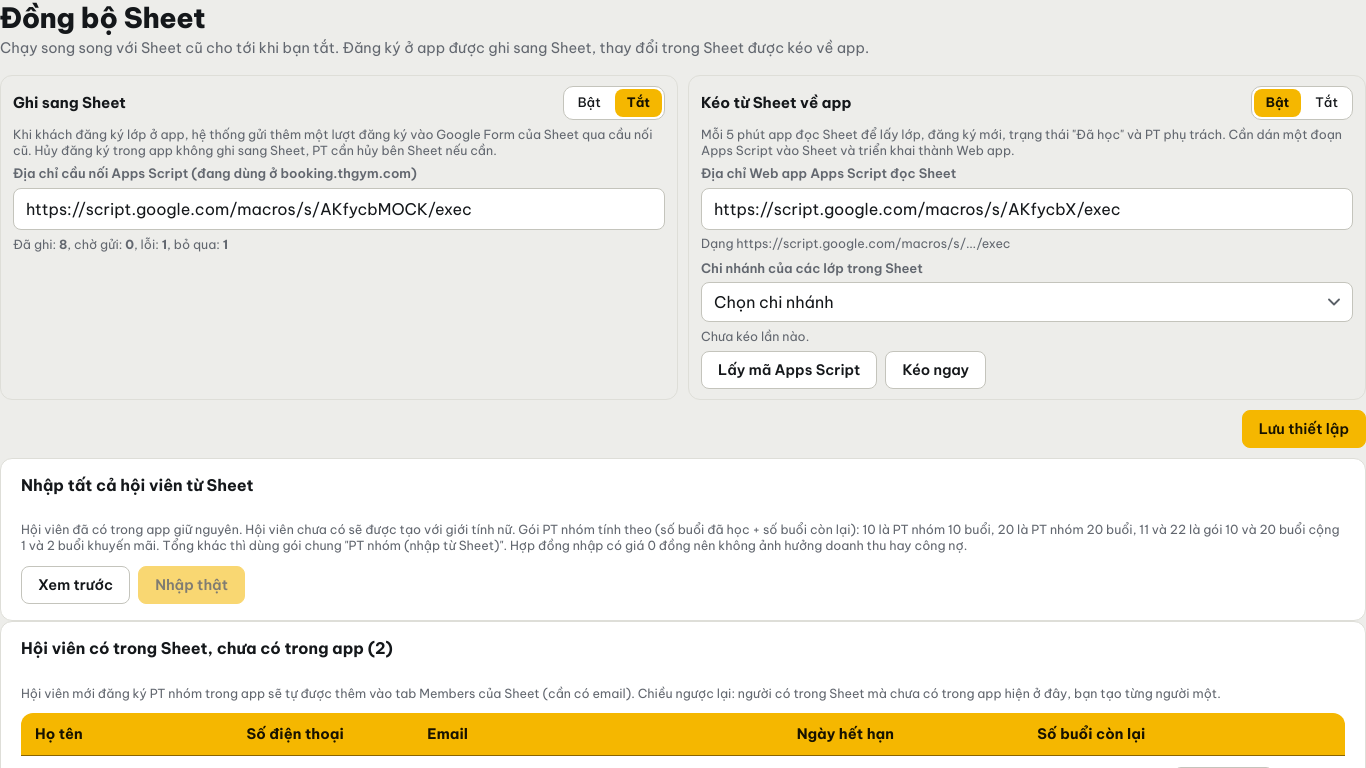
Test: sheet sync page › opens the Apps Script steps with the code
This screenshot has width=1366, height=768.
Click the button "Lấy mã Apps Script" at (789, 370), box [701,351,877,389]
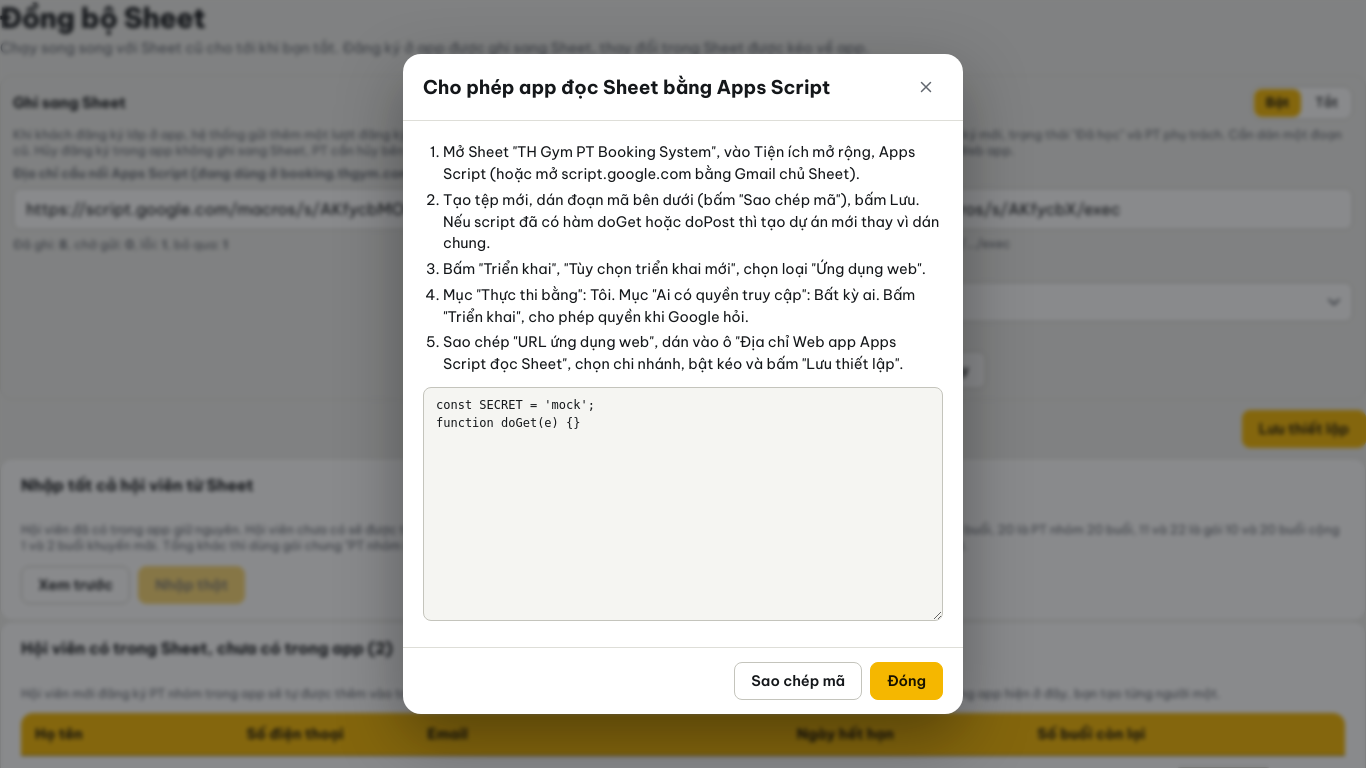
Expected: the text box named "Mã Apps Script" is shown, [423,387,943,621]
Expected: the button "Sao chép mã" is shown, [734,662,862,700]
